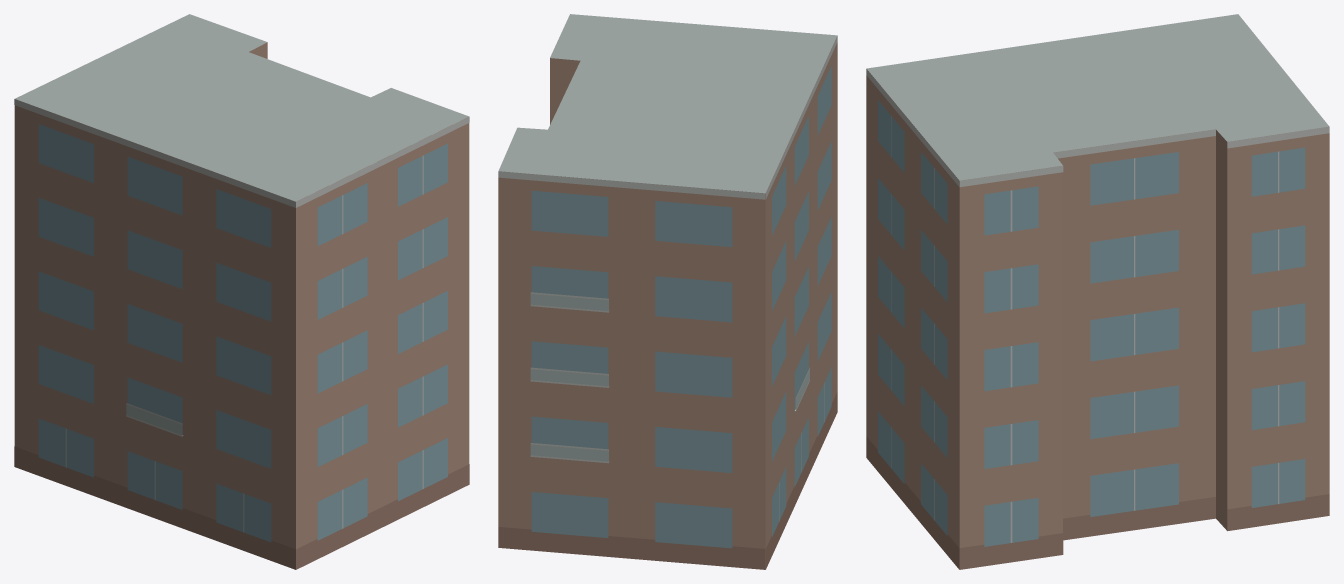
File: survey-upis-32709098.glb
3 views of the same model, side by side, from view 1: azimuth 30°, elevation 25°; view 2: azimuth 150°, elevation 25°; view 3: azimuth 270°, elevation 25° (orthographic). The views are drawn at different scales.
Parts seen in each view (by area): view 1: survey-upis-32709098.tmp; view 2: survey-upis-32709098.tmp; view 3: survey-upis-32709098.tmp.
Boxes of the visible parts, bbox=[...] form: survey-upis-32709098.tmp: bbox=[14, 14, 469, 569]; survey-upis-32709098.tmp: bbox=[498, 14, 837, 569]; survey-upis-32709098.tmp: bbox=[866, 14, 1329, 569].
Bounding box in the file's own units: 13.23 × 14.4 × 15.54.
